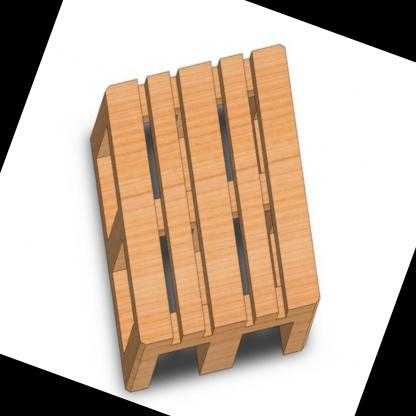BoxFace: (87, 44, 320, 398)
